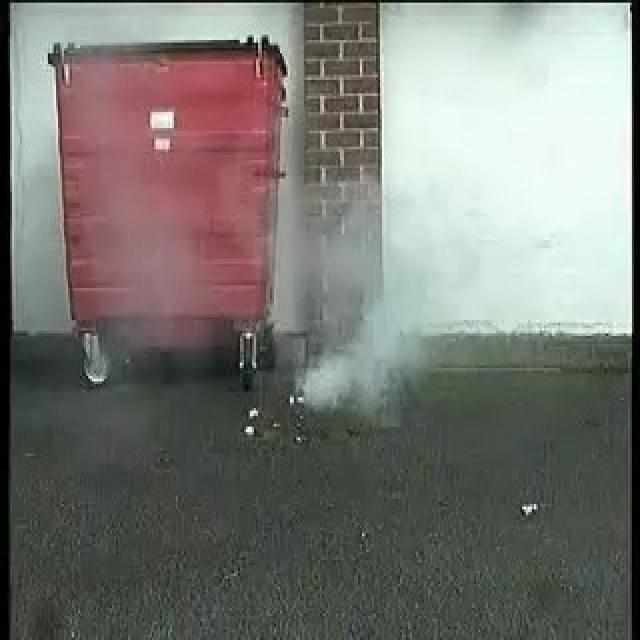smoke: (276, 199, 482, 410)
